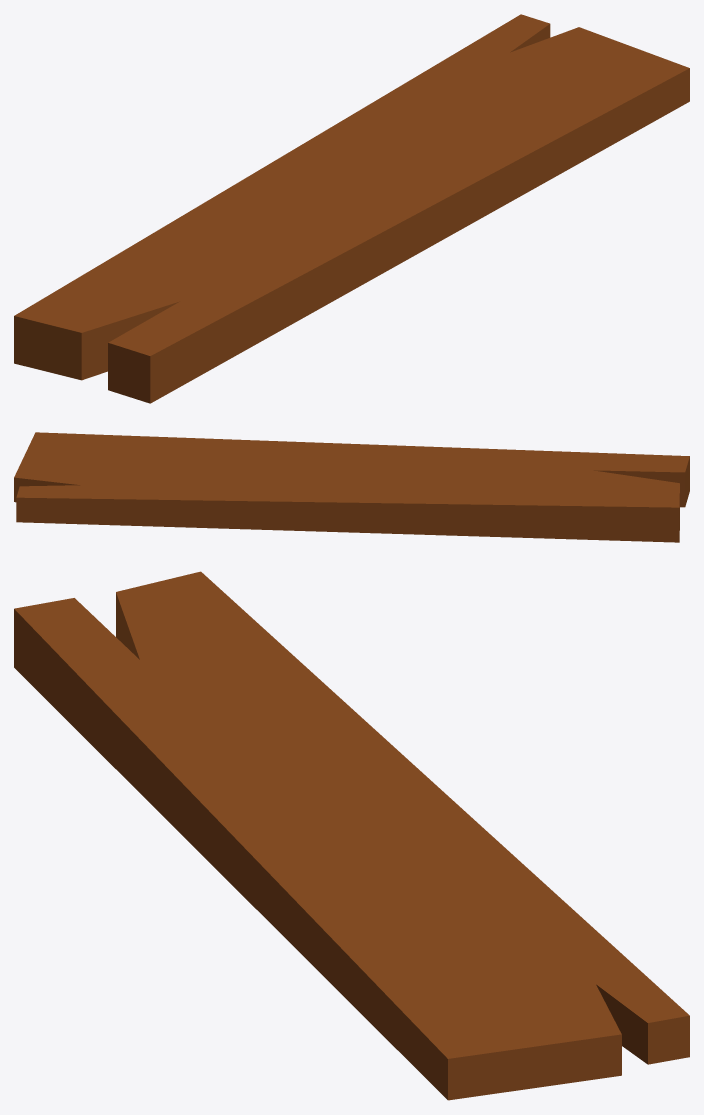
File: WreckedBoard.fbx
3 renders of one model, top to bottom at view 1: azimuth 30°, elevation 25°; view 2: azimuth 150°, elevation 25°; view 3: azimuth 270°, elevation 25°, orthographic. The views are drawn at different scales.
Visible parts, largest first — view 1: WreckedBoard; view 2: WreckedBoard; view 3: WreckedBoard.
Part boxes in pixels (x1,y1,x2,y2): WreckedBoard: (14, 14, 689, 403); WreckedBoard: (14, 432, 689, 542); WreckedBoard: (14, 571, 689, 1100).
Size of the model in its own units: 1.4 by 0.0818 by 0.8481.
